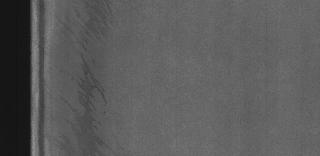water spot: (55, 0, 122, 152)
